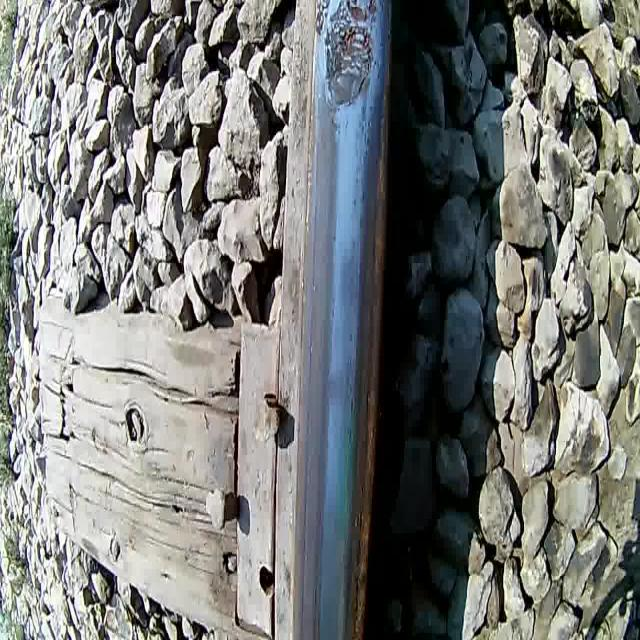Cracks: (352, 55, 374, 107)
Spallings: (312, 0, 379, 57)
Squats: (310, 0, 390, 118)
